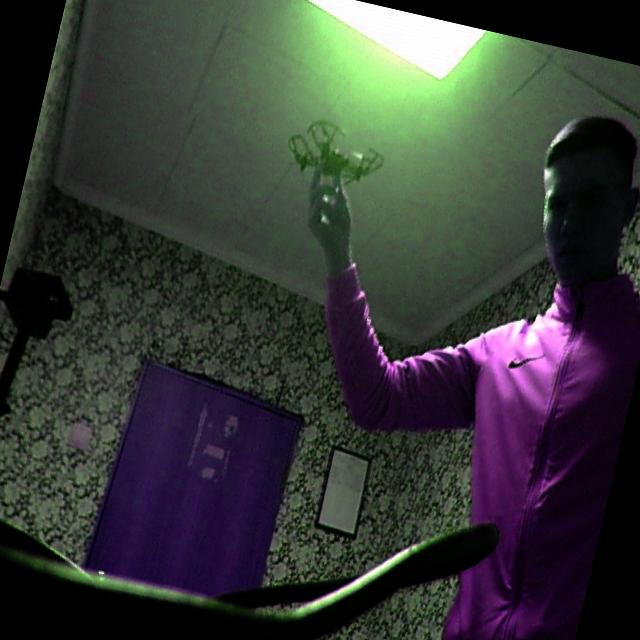drone: (274, 104, 395, 202)
